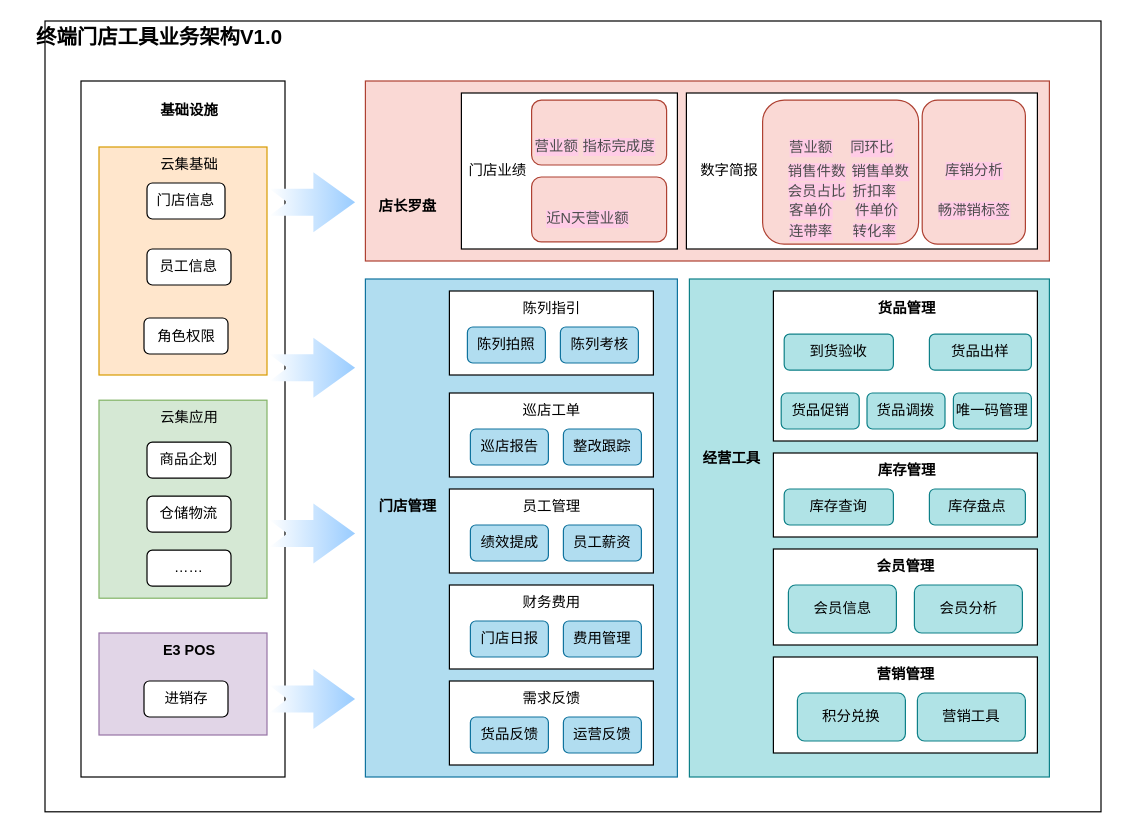
Some shapes in this 1122 by 833 pixel diagram are drawn without their labels. The box of each missing label's shape, as (x1, y1, x2, y2) in pixels:
业绩指标: (761, 99, 919, 244)
商品分析: (921, 99, 1025, 244)
销售指标: (530, 99, 667, 165)
销售趋势: (530, 176, 667, 242)
